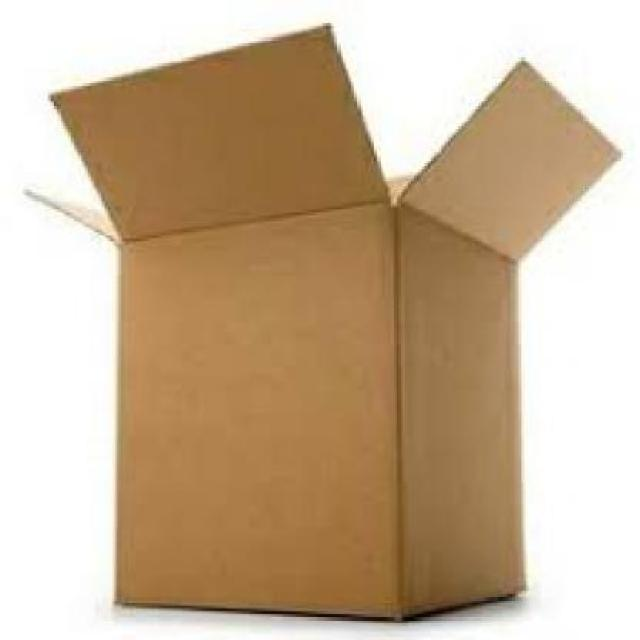CARDBOARD: (19, 20, 618, 617)
